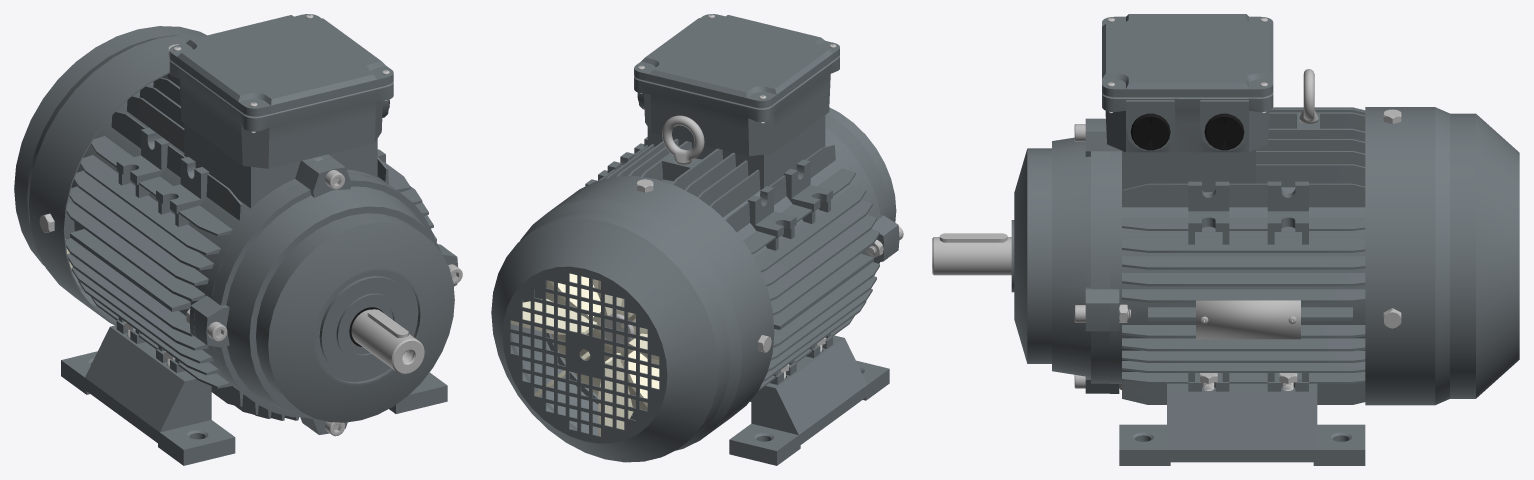
The model's file is electric-motor-low.glb.
The picture shows the model from 3 angles, left to right: view 1: azimuth 30°, elevation 25°; view 2: azimuth 150°, elevation 25°; view 3: azimuth 270°, elevation 25°; orthographic projection. The views are drawn at different scales.
Visible parts, largest first — view 1: End_bell_2, Casing_0, Electric_shield_6, Cover_1, Legs_5, Shaft_4, Nut_8, Pin_7; view 2: Cover_1, Casing_0, Electric_shield_6, Legs_5, Fan_15, End_bell_2, Rim_Bolt_16; view 3: Casing_0, Cover_1, End_bell_2, Electric_shield_6, Legs_5, Plane_19, Shaft_4, Caps_18, Nut_8, Rim_Bolt_16, Pin_7.
Boxes of the visible parts, bbox=[...] form: End_bell_2: bbox=[194, 158, 458, 434]; Casing_0: bbox=[65, 73, 444, 425]; Electric_shield_6: bbox=[169, 14, 393, 168]; Cover_1: bbox=[14, 26, 206, 325]; Legs_5: bbox=[61, 325, 447, 465]; Shaft_4: bbox=[351, 309, 424, 374]; Nut_8: bbox=[186, 170, 462, 436]; Pin_7: bbox=[367, 309, 408, 337]; Cover_1: bbox=[491, 176, 774, 462]; Casing_0: bbox=[522, 115, 888, 420]; Electric_shield_6: bbox=[634, 14, 839, 156]; Legs_5: bbox=[729, 335, 889, 465]; Fan_15: bbox=[511, 273, 659, 436]; End_bell_2: bbox=[825, 107, 899, 275]; Rim_Bolt_16: bbox=[662, 115, 704, 164]; Casing_0: bbox=[1110, 107, 1365, 404]; Cover_1: bbox=[1365, 107, 1519, 405]; End_bell_2: bbox=[1011, 118, 1109, 393]; Electric_shield_6: bbox=[1102, 14, 1273, 152]; Legs_5: bbox=[1119, 383, 1365, 465]; Plane_19: bbox=[1196, 300, 1300, 339]; Shaft_4: bbox=[932, 237, 1011, 275]; Caps_18: bbox=[1130, 113, 1244, 150]; Nut_8: bbox=[1074, 124, 1130, 389]; Rim_Bolt_16: bbox=[1299, 69, 1318, 123]; Pin_7: bbox=[939, 233, 1007, 242].
Bounding box in the file's own units: 0.2293 × 0.2848 × 0.4297.
